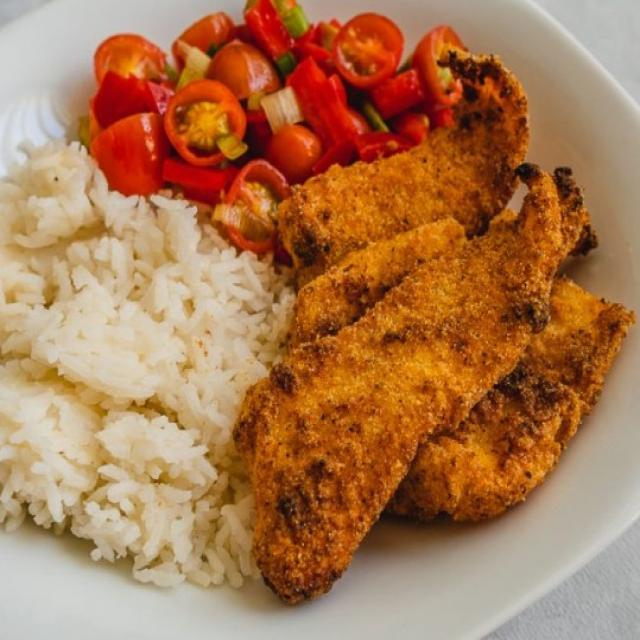CHICKEN FRY: (234, 50, 633, 601)
RICE: (0, 142, 292, 586)
